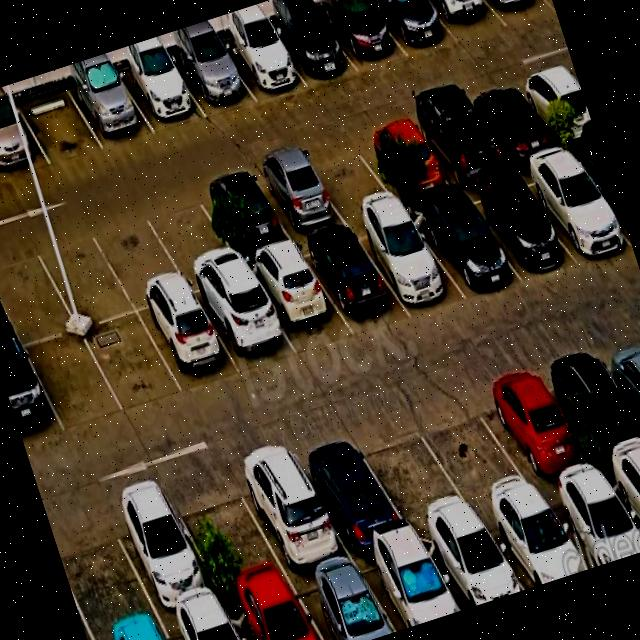empty: (407, 383, 541, 517), (164, 465, 289, 599), (348, 406, 477, 534), (48, 501, 158, 640), (140, 188, 246, 294), (31, 223, 136, 329), (82, 312, 184, 414), (90, 208, 191, 311), (25, 331, 124, 433), (299, 137, 397, 220), (0, 241, 77, 346), (16, 87, 104, 165)
occupied: (227, 440, 352, 577), (471, 363, 600, 495), (101, 483, 223, 618), (288, 426, 412, 556), (542, 342, 640, 472), (514, 152, 631, 260), (244, 245, 353, 357), (458, 176, 574, 281), (406, 195, 522, 300), (298, 228, 409, 335), (352, 212, 467, 314), (138, 295, 242, 394), (355, 539, 461, 632), (195, 279, 298, 374), (482, 498, 589, 589), (420, 521, 525, 610), (407, 99, 510, 187), (194, 170, 293, 260), (543, 478, 640, 569), (289, 561, 396, 640), (249, 153, 347, 239), (354, 118, 453, 200), (465, 80, 560, 162), (267, 10, 358, 86), (67, 72, 155, 149), (0, 343, 65, 447), (117, 59, 207, 134), (317, 0, 408, 73), (514, 64, 596, 144), (218, 29, 307, 101), (172, 44, 255, 117), (224, 581, 322, 640), (568, 142, 629, 236), (370, 0, 458, 57), (0, 103, 50, 181), (594, 328, 640, 412), (425, 0, 507, 45), (162, 601, 243, 640), (605, 462, 640, 528), (486, 0, 555, 26)
